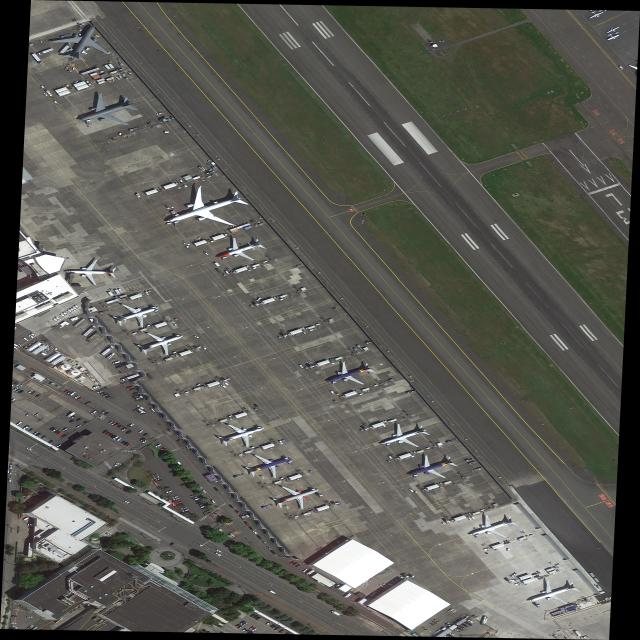large-vehicle: (120, 374, 140, 382), (82, 326, 96, 337), (36, 48, 54, 56), (83, 326, 96, 337), (59, 43, 72, 54), (30, 53, 43, 64), (100, 346, 114, 356), (121, 374, 140, 381), (101, 346, 114, 356), (481, 616, 489, 625), (330, 610, 341, 616), (106, 353, 116, 359), (207, 160, 217, 166), (220, 384, 227, 388), (223, 382, 229, 385)
plane: (148, 178, 263, 239), (66, 88, 147, 137), (47, 21, 121, 65), (260, 478, 329, 516), (459, 509, 527, 547), (206, 232, 274, 270), (316, 356, 383, 394), (519, 576, 586, 614), (399, 450, 464, 488), (213, 415, 278, 453), (105, 296, 169, 334), (131, 324, 194, 362), (239, 447, 302, 484), (65, 258, 119, 285), (586, 9, 605, 21), (604, 26, 623, 36), (604, 32, 621, 42)
small-vehicle: (330, 610, 341, 616), (66, 412, 76, 418), (268, 589, 277, 595), (125, 430, 134, 435), (465, 621, 473, 626), (127, 423, 135, 428), (90, 410, 98, 415), (69, 391, 77, 396), (461, 623, 469, 628), (124, 500, 132, 505), (278, 629, 286, 634), (216, 549, 224, 554), (214, 552, 222, 557), (580, 635, 589, 639), (112, 361, 121, 365), (62, 427, 69, 432), (28, 428, 35, 433), (35, 432, 42, 437), (75, 417, 82, 422), (139, 437, 146, 442), (121, 427, 128, 432), (22, 337, 29, 342), (255, 297, 262, 302), (243, 521, 250, 526), (270, 550, 277, 555), (256, 535, 263, 540), (239, 620, 246, 625), (251, 627, 258, 632), (101, 430, 109, 434), (102, 393, 110, 397), (84, 401, 92, 405), (467, 620, 475, 624), (183, 242, 191, 246), (456, 627, 464, 631), (175, 501, 183, 505), (116, 424, 122, 429), (34, 412, 40, 417), (14, 343, 20, 348), (53, 100, 59, 105), (329, 390, 335, 395), (298, 364, 304, 369), (618, 65, 624, 70), (203, 251, 209, 256), (252, 530, 258, 535), (213, 487, 219, 492), (210, 499, 216, 504), (255, 616, 261, 621), (75, 424, 82, 428), (26, 447, 33, 451), (56, 431, 63, 435), (51, 428, 58, 432), (53, 430, 60, 434), (60, 434, 67, 438), (68, 419, 75, 423), (96, 390, 103, 394), (23, 517, 30, 521), (155, 444, 162, 448), (112, 436, 119, 440), (142, 439, 149, 443), (113, 423, 120, 427), (110, 422, 117, 426), (30, 333, 37, 337), (55, 317, 62, 321), (62, 312, 69, 316), (28, 335, 35, 339), (16, 342, 23, 346), (76, 397, 83, 401), (74, 395, 81, 399), (15, 389, 22, 393), (34, 394, 41, 398), (30, 391, 37, 395), (12, 387, 19, 391), (27, 625, 34, 629), (449, 632, 456, 636), (160, 447, 167, 451), (173, 497, 180, 501), (166, 490, 173, 494), (196, 501, 203, 505), (180, 483, 187, 487), (163, 486, 170, 490), (156, 479, 163, 483), (274, 627, 281, 631), (235, 624, 242, 628), (196, 543, 203, 547), (200, 505, 207, 509), (126, 386, 135, 389), (409, 488, 414, 493), (71, 415, 77, 419), (56, 444, 62, 448), (16, 422, 22, 426), (23, 426, 29, 430), (41, 435, 47, 439), (48, 440, 54, 444), (49, 427, 55, 431), (110, 434, 116, 438), (121, 440, 127, 444), (126, 443, 132, 447), (105, 432, 111, 436), (116, 438, 122, 442), (108, 420, 114, 424), (105, 395, 111, 399), (123, 442, 129, 446), (60, 314, 66, 318), (70, 308, 76, 312), (74, 305, 80, 309), (144, 291, 150, 295), (138, 430, 144, 434), (101, 410, 107, 414), (66, 391, 72, 395), (63, 389, 69, 393), (18, 390, 24, 394), (27, 390, 33, 394), (18, 384, 24, 388), (15, 383, 21, 387), (12, 381, 18, 385), (459, 625, 465, 629), (302, 569, 308, 573), (289, 561, 295, 565), (261, 540, 267, 544), (224, 271, 230, 275), (194, 335, 200, 339), (201, 490, 207, 494), (248, 526, 254, 530), (228, 504, 234, 508), (180, 507, 188, 510), (195, 499, 201, 503), (292, 562, 298, 566), (270, 624, 276, 628), (272, 625, 278, 629), (242, 628, 248, 632), (238, 625, 244, 629), (249, 626, 255, 630), (242, 622, 248, 626), (253, 615, 259, 619), (251, 614, 257, 618), (99, 392, 106, 395), (31, 627, 38, 630), (53, 319, 60, 322), (103, 412, 110, 415), (454, 629, 461, 632), (129, 388, 136, 391), (182, 509, 189, 512), (172, 496, 179, 499), (201, 507, 208, 510), (153, 476, 160, 479), (152, 474, 159, 477), (113, 464, 120, 467), (190, 494, 197, 497), (193, 498, 200, 501), (83, 420, 88, 424), (25, 413, 30, 417), (11, 399, 16, 403), (388, 456, 393, 460), (202, 346, 207, 350), (296, 564, 301, 568), (266, 546, 271, 550), (235, 510, 240, 514), (198, 485, 203, 489), (245, 629, 250, 633), (108, 433, 114, 436), (67, 310, 73, 313), (72, 307, 78, 310), (9, 625, 15, 628), (132, 392, 138, 395), (155, 478, 161, 481), (265, 622, 271, 625), (192, 496, 198, 499), (199, 503, 205, 506), (8, 478, 12, 482), (9, 465, 13, 469), (14, 346, 18, 350), (33, 432, 38, 435), (143, 433, 148, 436), (43, 93, 48, 96), (8, 627, 15, 629), (26, 616, 33, 618), (10, 622, 17, 624), (156, 113, 163, 115), (115, 463, 122, 465), (118, 289, 122, 292), (11, 615, 17, 617), (28, 524, 34, 526), (9, 471, 12, 475), (12, 380, 16, 383), (285, 632, 290, 634), (20, 515, 23, 518)
